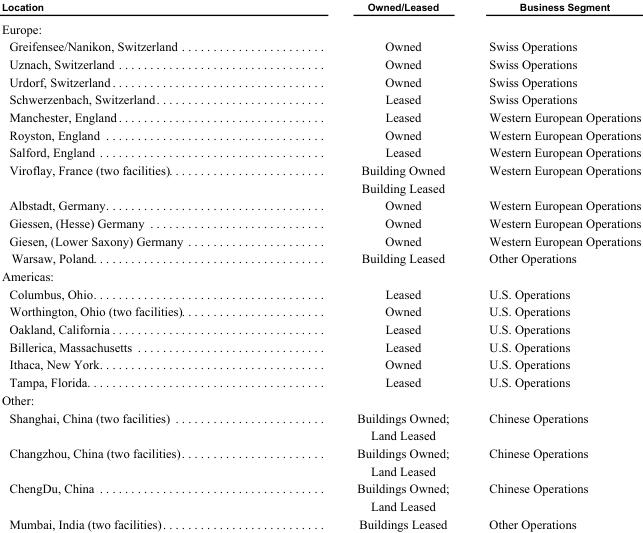table: (0, 0, 640, 530)
table column: (0, 0, 270, 530), (270, 0, 468, 530), (468, 0, 640, 530)
table column header: (0, 0, 640, 16)
table projected row header: (0, 16, 640, 37), (0, 266, 640, 284), (0, 390, 640, 408)
table row: (0, 16, 640, 37), (0, 54, 640, 72), (0, 72, 640, 90), (0, 107, 640, 125), (0, 125, 640, 143), (0, 160, 640, 178), (0, 178, 640, 196), (0, 213, 640, 231), (0, 231, 640, 249), (0, 266, 640, 284), (0, 284, 640, 302), (0, 302, 640, 320), (0, 337, 640, 355), (0, 355, 640, 373), (0, 390, 640, 408), (0, 408, 640, 426), (0, 443, 640, 461), (0, 461, 640, 479), (0, 496, 640, 514), (0, 37, 640, 54), (0, 90, 640, 107), (0, 143, 640, 160), (0, 196, 640, 213), (0, 249, 640, 266), (0, 320, 640, 337), (0, 373, 640, 390), (0, 426, 640, 443), (0, 479, 640, 496), (0, 0, 640, 16), (0, 514, 640, 530)
table spanning cell: (0, 160, 270, 196), (0, 443, 270, 479), (0, 408, 270, 443), (0, 479, 270, 514)
